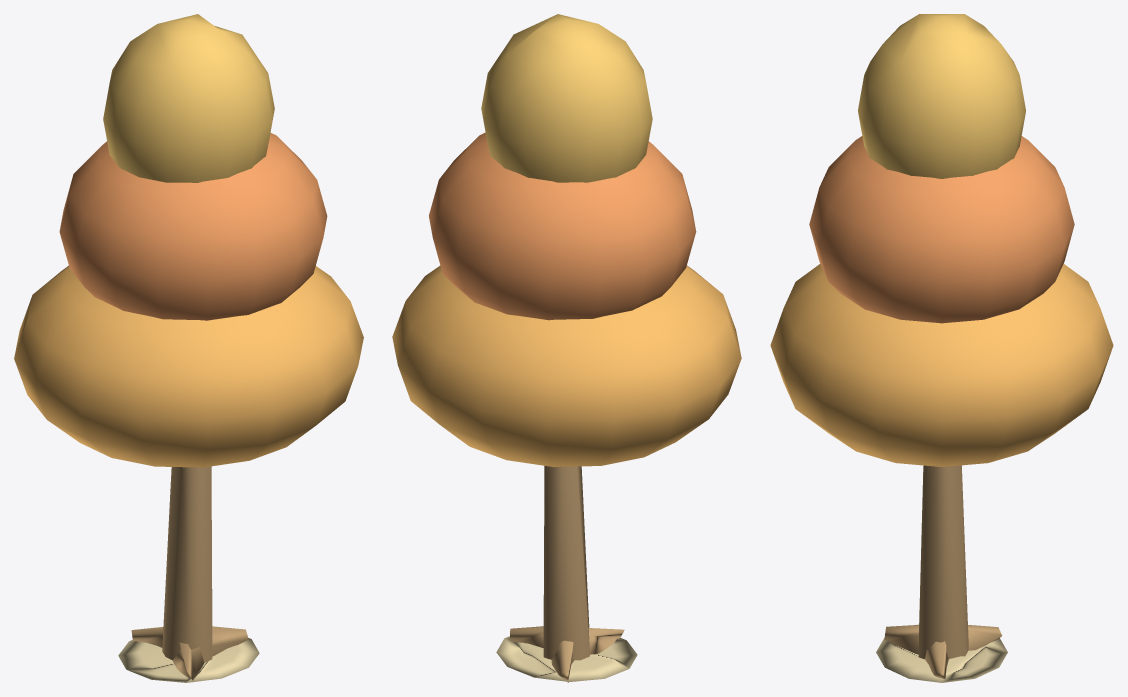
The model's file is tree_v3_autumn_low.glb.
3 views of the same model, side by side, from view 1: azimuth 30°, elevation 25°; view 2: azimuth 150°, elevation 25°; view 3: azimuth 270°, elevation 25° (orthographic).
Bounding box in the file's own units: 2.75 × 5.45 × 2.65.
